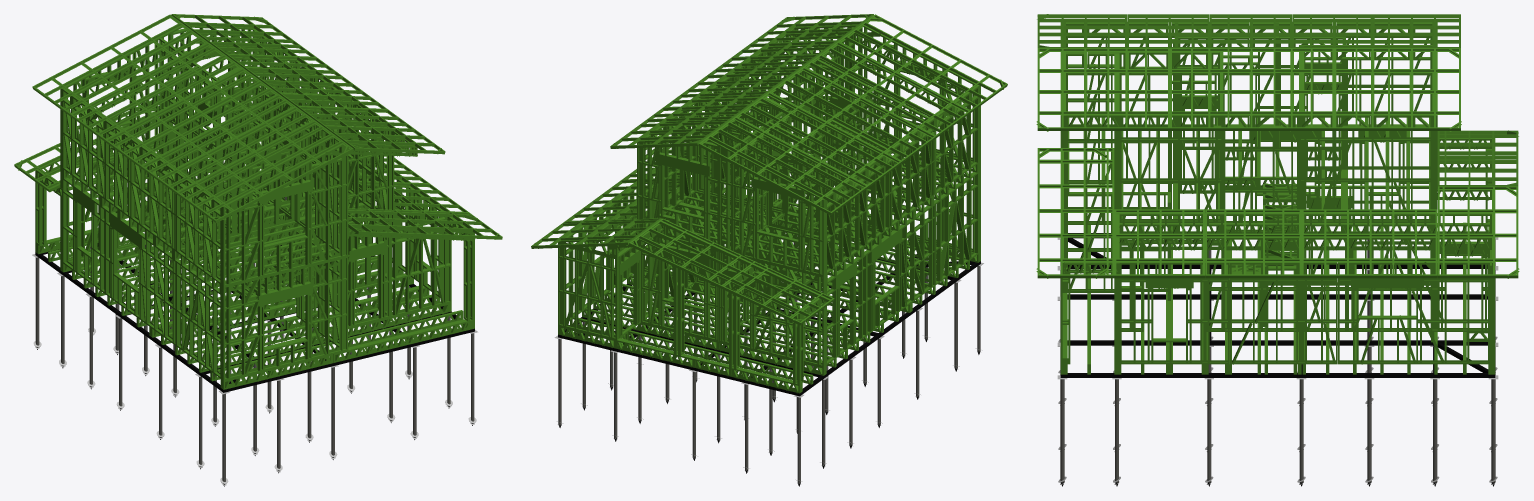
3 views of the same model, side by side, from view 1: azimuth 30°, elevation 25°; view 2: azimuth 150°, elevation 25°; view 3: azimuth 270°, elevation 25° (orthographic). The views are drawn at different scales.
Parts seen in each view (by area): view 1: component (×4); view 2: component (×3); view 3: component (×4).
Boxes of the visible parts, x1,y1,x2,y2 form: component (×4): (14,14,502,486); component (×3): (531,14,1007,486); component (×4): (1036,14,1519,486).
Bounding box in the file's own units: 10.04 × 10.54 × 12.6.
